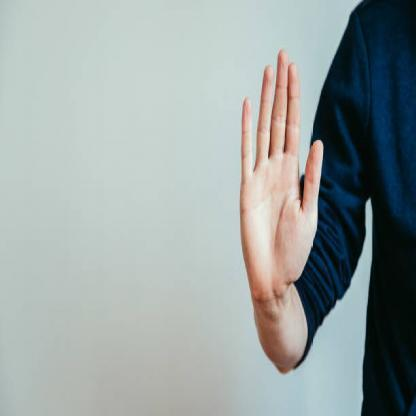stop: (239, 43, 324, 306)
